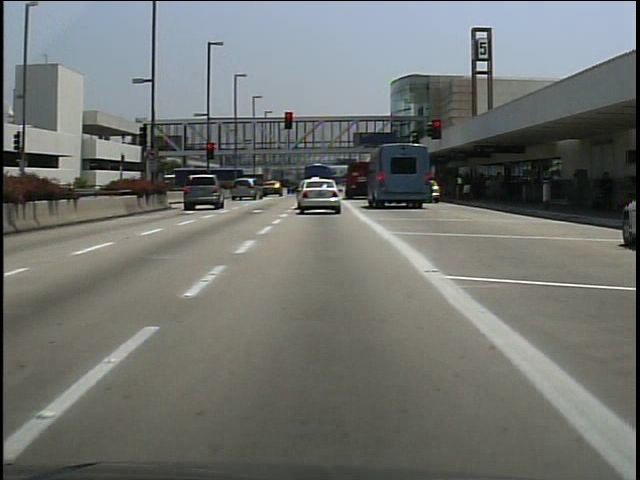person: (597, 167, 616, 221)
